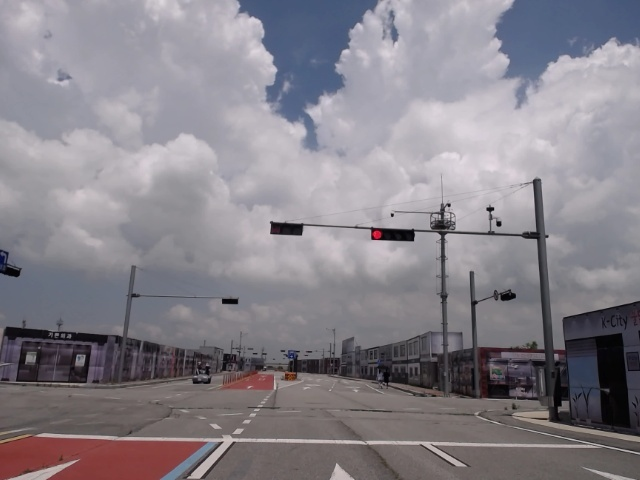red_4: (371, 230, 414, 242)
